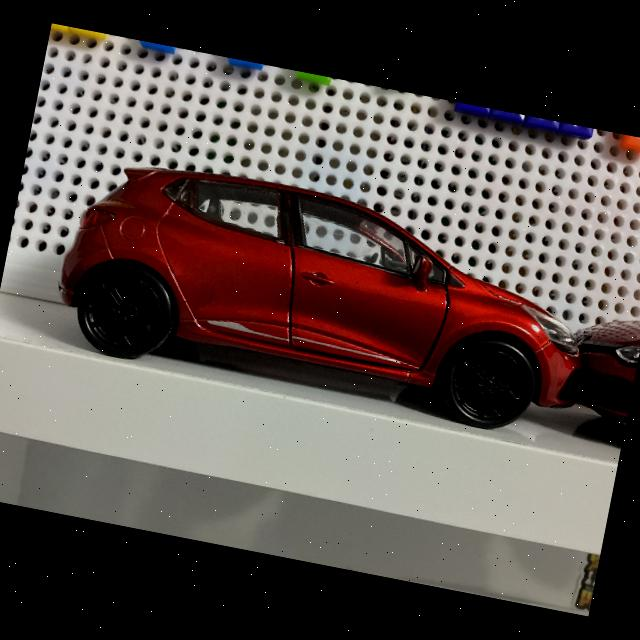Dogru_Jant: (80, 270, 168, 356), (449, 345, 532, 427)
